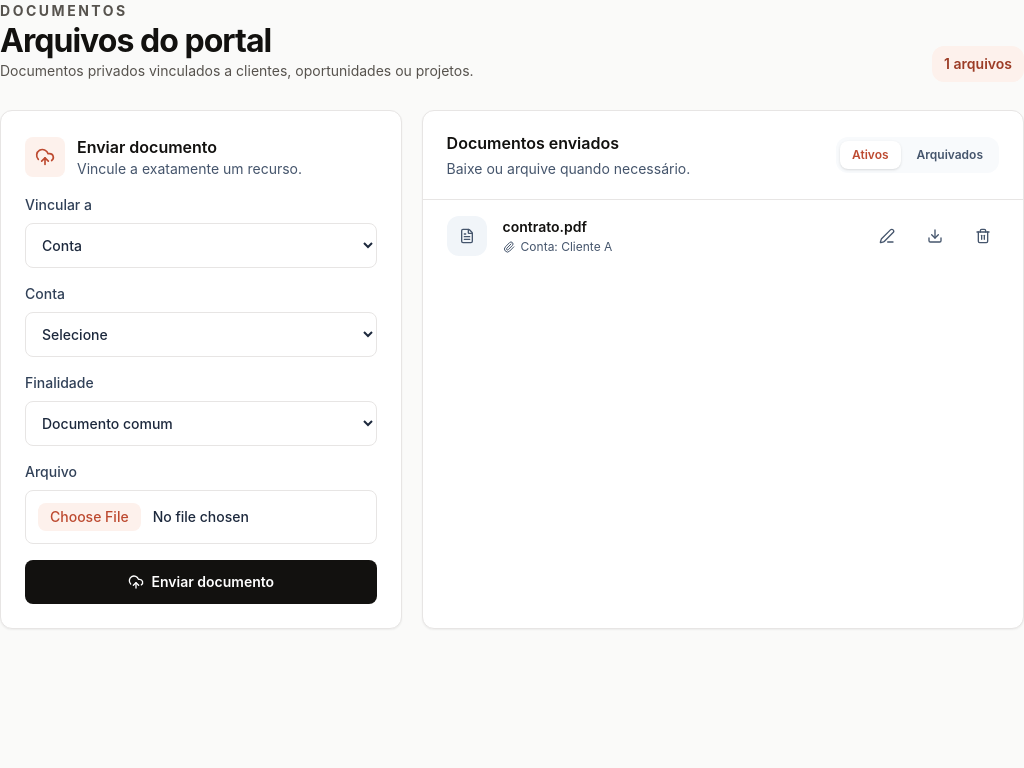
Test: o botão de assinatura abre o modal com a linha fixa da casa
Expected: the text "contrato.pdf" is shown, [503,218,587,235]
Step 1. Click the button named "Enviar contrato.pdf para assinatura" → (887, 236), box [871,220,903,252]
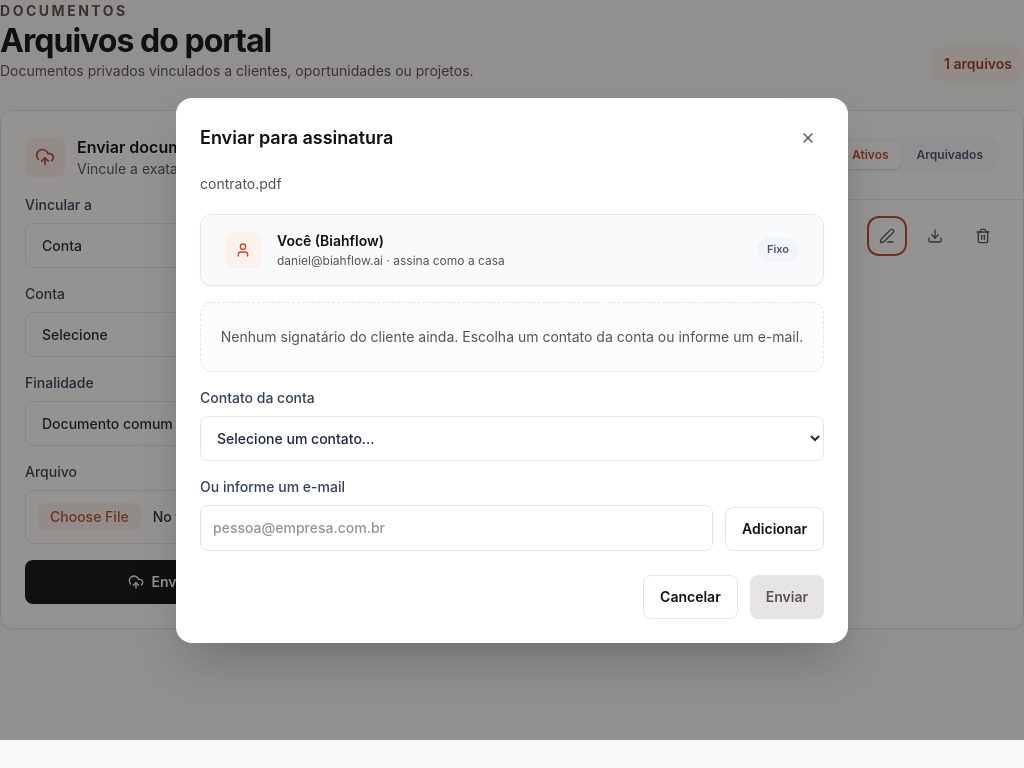
Now the text "Você (Biahflow)" is shown, box [277,232,384,248]
Now the text "daniel@biahflow.ai · assina como a casa" is shown, box [277,252,505,268]
Now the text "Fixo" is shown, box [757,237,799,262]
